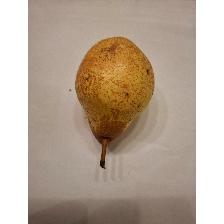Birne: (74, 34, 159, 170)
